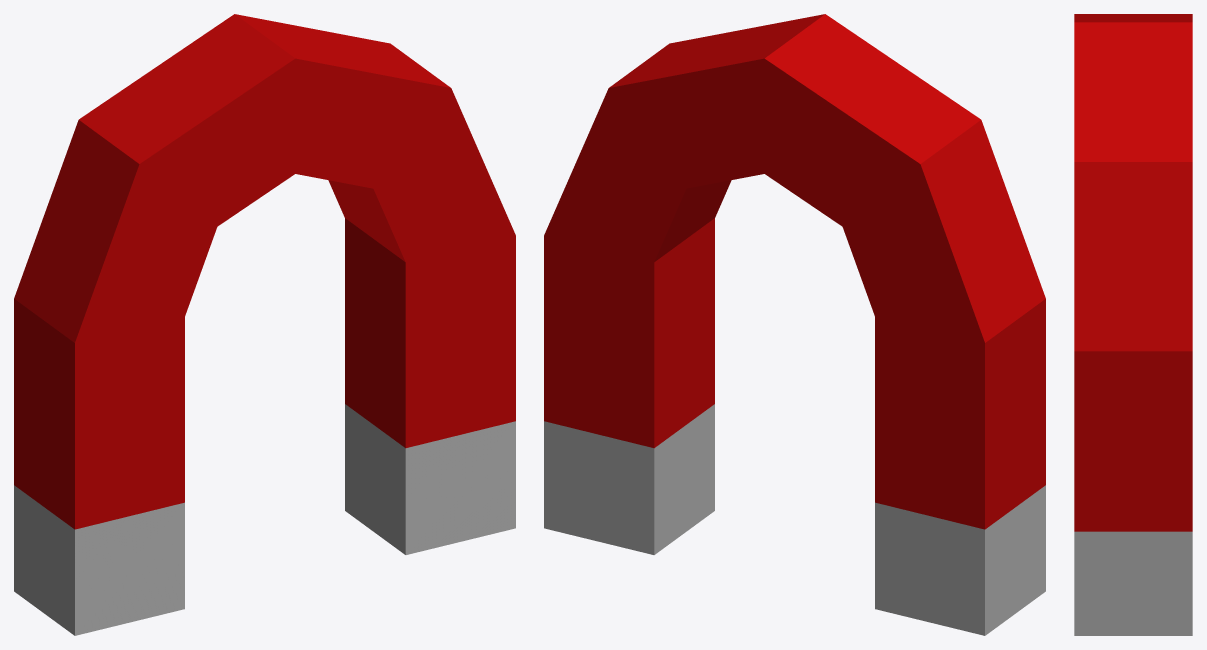
File: mıknatıs.fbx
The picture shows the model from 3 angles, left to right: view 1: azimuth 30°, elevation 25°; view 2: azimuth 150°, elevation 25°; view 3: azimuth 270°, elevation 25°; orthographic projection. The views are drawn at different scales.
Parts seen in each view (by area): view 1: Node.001; view 2: Node.001; view 3: Node.001.
Boxes of the visible parts, left/top/right/bottom form: Node.001: left=14, top=14, right=515, bottom=635; Node.001: left=544, top=14, right=1045, bottom=635; Node.001: left=1074, top=14, right=1192, bottom=635.
Size of the model in its own units: 200 by 227 by 47.79.
